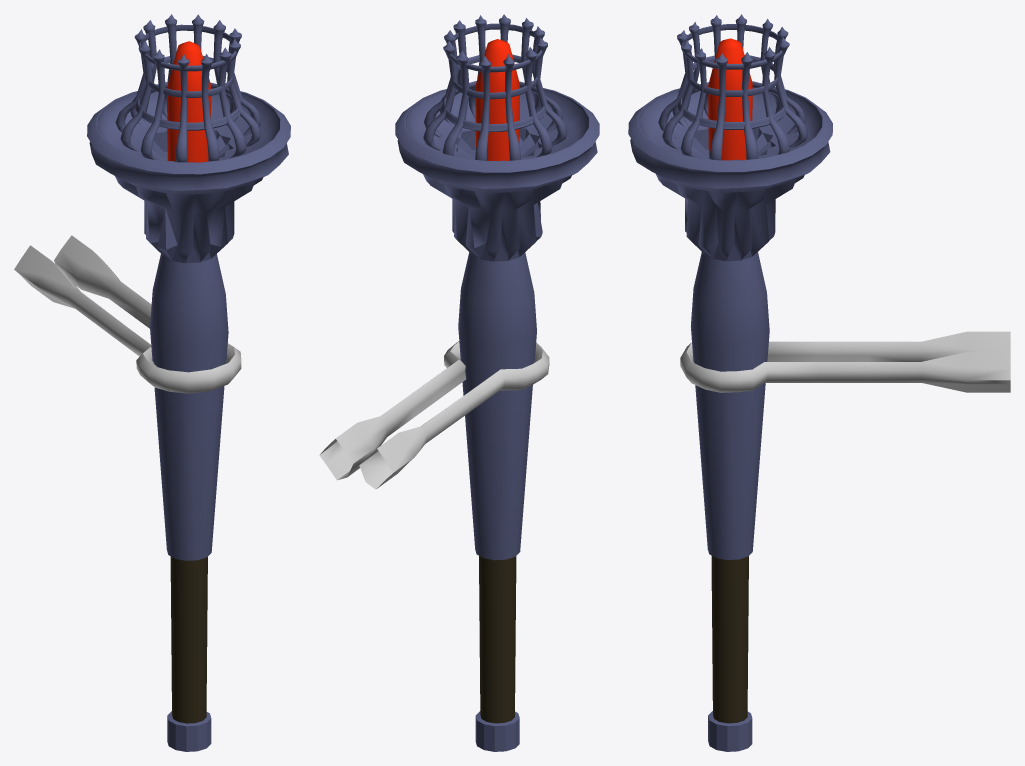
Rendered from TorchWall_15.fbx.
The picture shows the model from 3 angles, left to right: view 1: azimuth 30°, elevation 25°; view 2: azimuth 150°, elevation 25°; view 3: azimuth 270°, elevation 25°; orthographic projection.
Parts seen in each view (by area): view 1: TorchWall_15; view 2: TorchWall_15; view 3: TorchWall_15.
Part boxes in pixels (bbox=[...]): TorchWall_15: bbox=[14, 14, 290, 751]; TorchWall_15: bbox=[319, 14, 599, 751]; TorchWall_15: bbox=[628, 14, 1010, 751].
Size of the model in its own units: 18.86 by 35.23 by 73.01.
